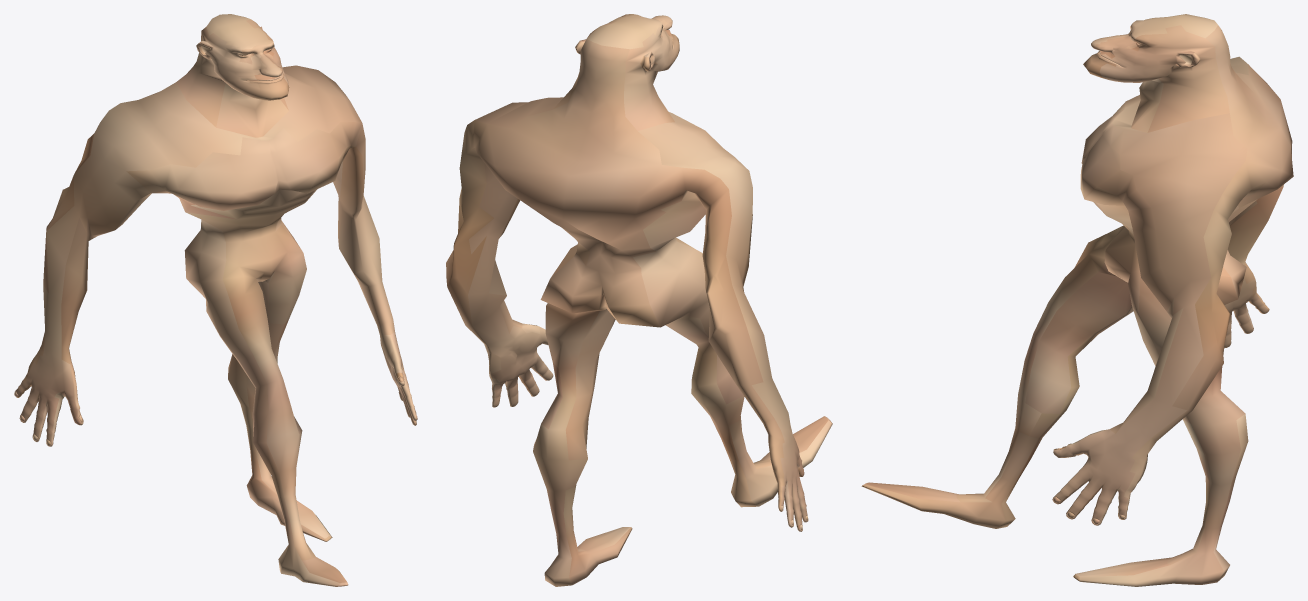
The picture shows the model from 3 angles, left to right: view 1: azimuth 30°, elevation 25°; view 2: azimuth 150°, elevation 25°; view 3: azimuth 270°, elevation 25°; orthographic projection. The views are drawn at different scales.
Parts seen in each view (by area): view 1: soldiersoldier120; view 2: soldiersoldier120; view 3: soldiersoldier120.
Part boxes in pixels (x1,y1,x2,y2): soldiersoldier120: (14,14,417,586); soldiersoldier120: (446,14,832,586); soldiersoldier120: (861,14,1293,586).
Size of the model in its own units: 3.04 by 4.35 by 3.17.
1 material, 1 textured.
